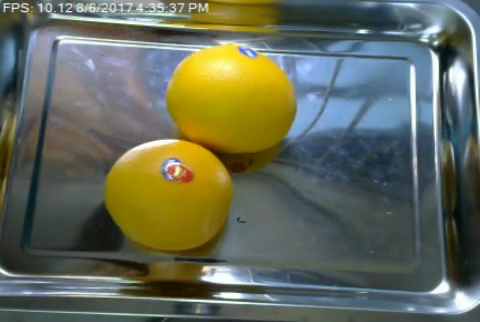Orange: (102, 138, 235, 249), (168, 46, 297, 156)
